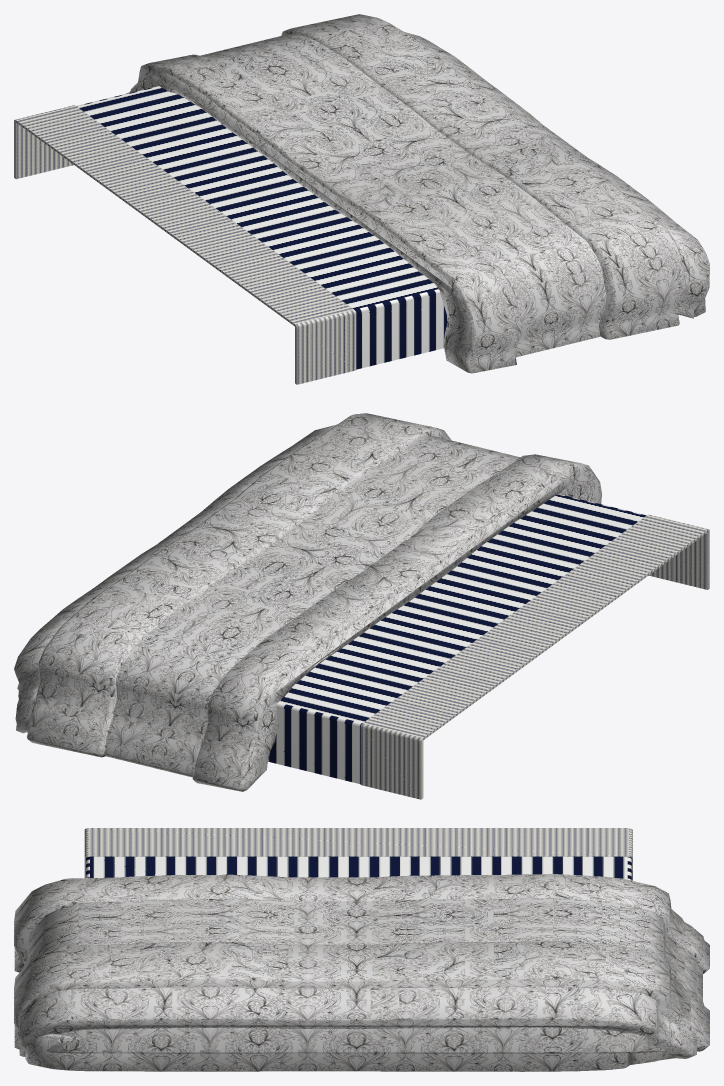
The picture shows the model from 3 angles, top to bottom: view 1: azimuth 30°, elevation 25°; view 2: azimuth 150°, elevation 25°; view 3: azimuth 270°, elevation 25°; orthographic projection. The views are drawn at different scales.
Parts seen in each view (by area): view 1: Mesh2_Interior_Fabric_Bedding_Blanket_lite01_1_Interior_Fab.000; view 2: Mesh2_Interior_Fabric_Bedding_Blanket_lite01_1_Interior_Fab.000; view 3: Mesh2_Interior_Fabric_Bedding_Blanket_lite01_1_Interior_Fab.000.
Boxes of the visible parts, x1,y1,x2,y2 form: Mesh2_Interior_Fabric_Bedding_Blanket_lite01_1_Interior_Fab.000: [14, 14, 709, 384]; Mesh2_Interior_Fabric_Bedding_Blanket_lite01_1_Interior_Fab.000: [14, 413, 709, 799]; Mesh2_Interior_Fabric_Bedding_Blanket_lite01_1_Interior_Fab.000: [14, 828, 709, 1071].
Bounding box in the file's own units: 0.6171 × 0.1267 × 0.9551.
Materials: 3 (3 with a texture image).
